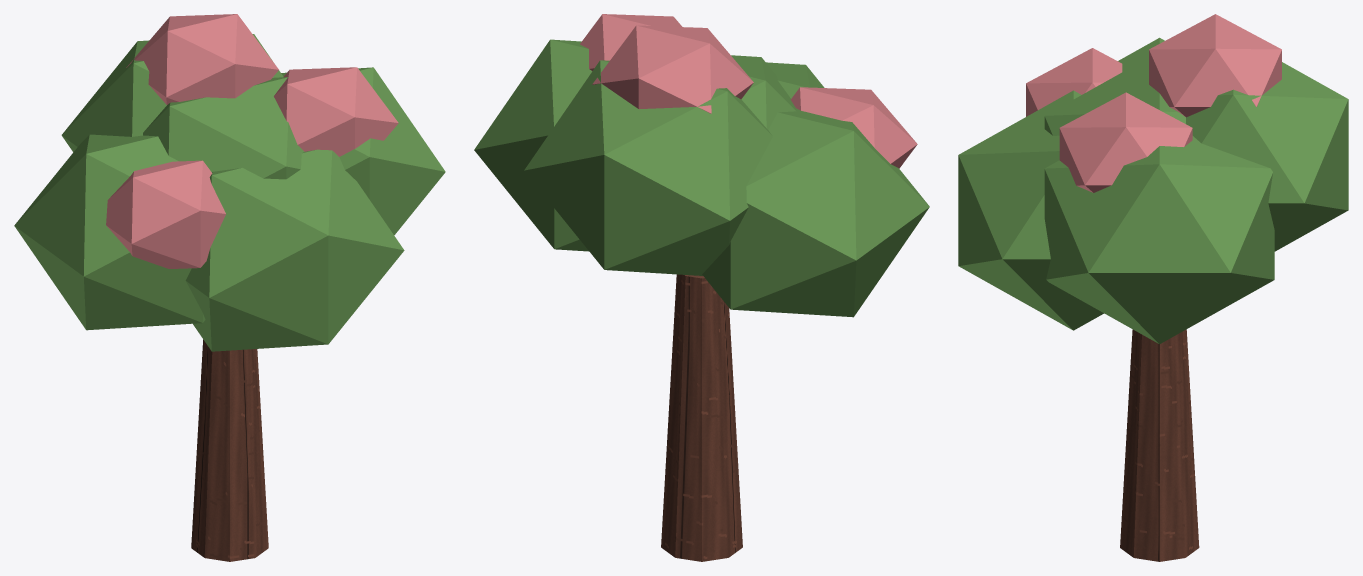
The model's file is blossom.glb.
3 renders of one model, left to right at view 1: azimuth 30°, elevation 25°; view 2: azimuth 150°, elevation 25°; view 3: azimuth 270°, elevation 25°, orthographic. The views are drawn at different scales.
Parts seen in each view (by area): view 1: 0_leaf, 0_pink, 0_woodTex; view 2: 0_leaf, 0_woodTex, 0_pink; view 3: 0_leaf, 0_pink, 0_woodTex.
Part boxes in pixels (left/top/right/bottom): 0_leaf: left=14, top=34, right=445, bottom=351; 0_pink: left=106, top=14, right=398, bottom=268; 0_woodTex: left=191, top=339, right=268, bottom=561; 0_leaf: left=474, top=39, right=929, bottom=317; 0_woodTex: left=661, top=274, right=742, bottom=561; 0_pink: left=580, top=14, right=917, bottom=168; 0_leaf: left=958, top=37, right=1348, bottom=344; 0_pink: left=1026, top=14, right=1281, bottom=192; 0_woodTex: left=1120, top=329, right=1199, bottom=561.
Bounding box in the file's own units: 3.82 × 5.07 × 3.49.
3 materials, 1 textured.
